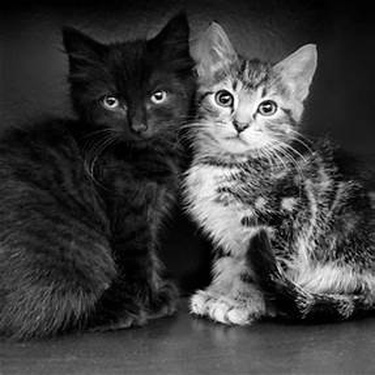cat: (6, 10, 193, 338), (188, 17, 374, 328)
